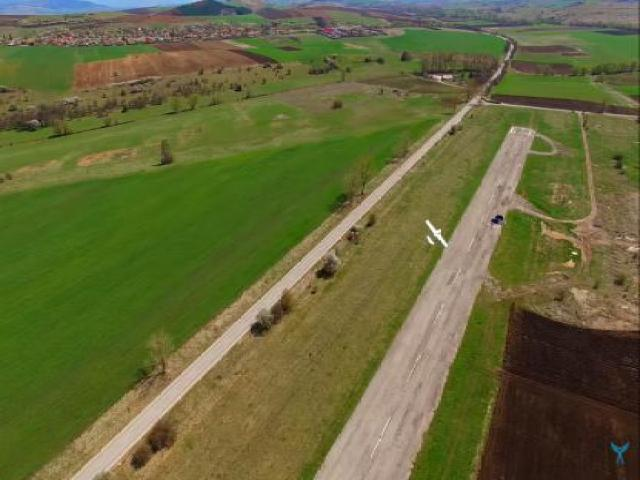uav: (418, 212, 453, 254)
